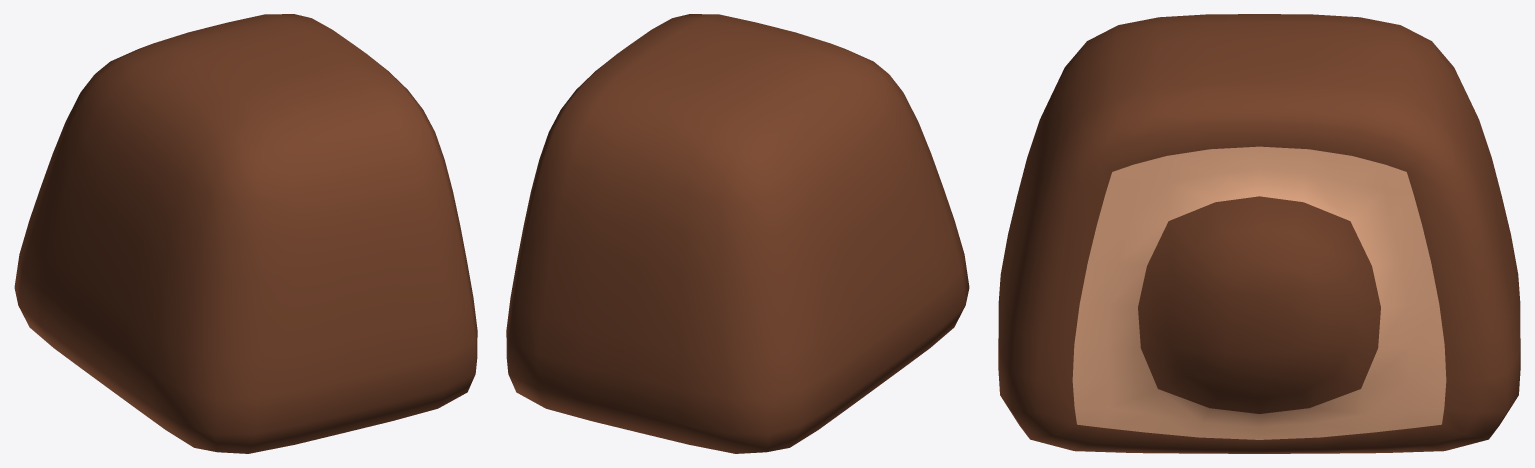
Rendered from Toffee_01.fbx.
3 views of the same model, side by side, from view 1: azimuth 30°, elevation 25°; view 2: azimuth 150°, elevation 25°; view 3: azimuth 270°, elevation 25° (orthographic). The views are drawn at different scales.
Visible parts, largest first — view 1: Toffee_01_LOD0; view 2: Toffee_01_LOD0; view 3: Toffee_01_LOD0.
Boxes of the visible parts, x1,y1,x2,y2 form: Toffee_01_LOD0: (14,14,477,453); Toffee_01_LOD0: (506,14,969,453); Toffee_01_LOD0: (998,14,1520,453).
Size of what is drawn, in the model's own units: 374 by 342 by 459.
